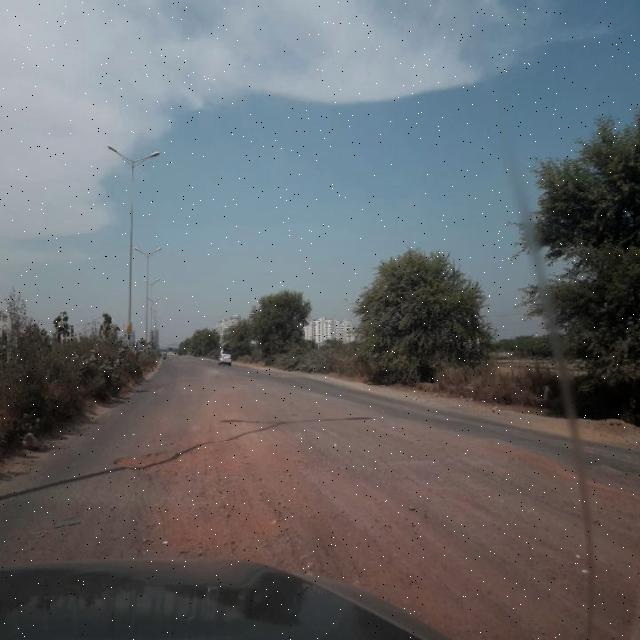D40: (106, 380, 365, 562)
